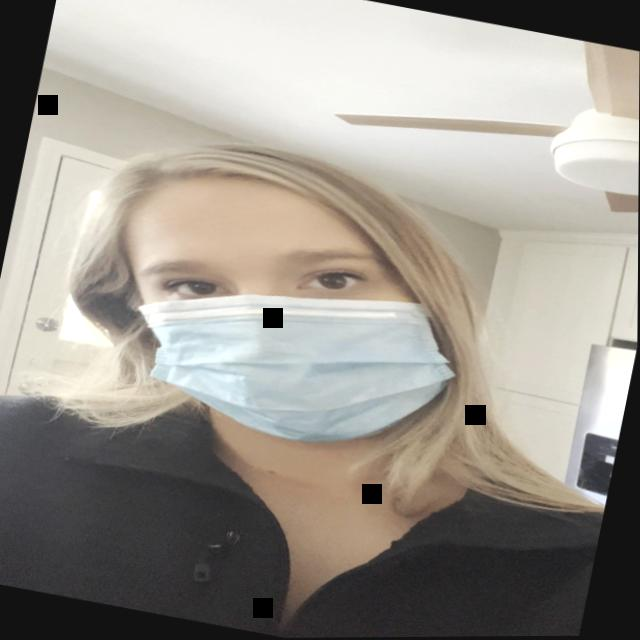Mask: (58, 129, 514, 490)
